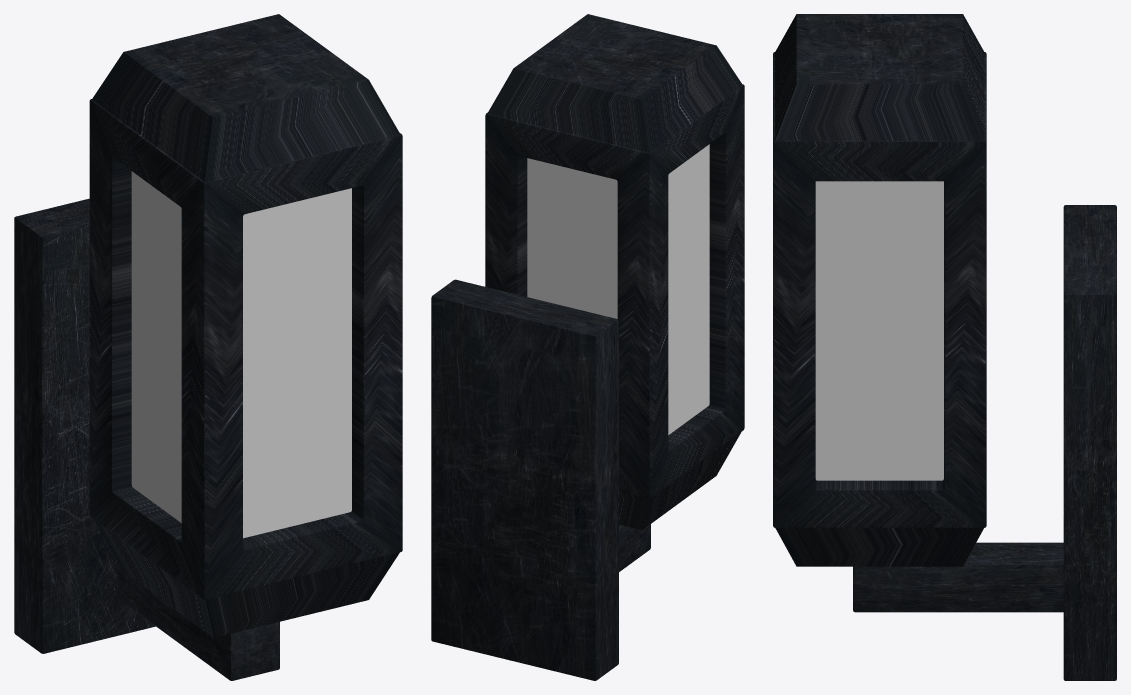
The model's file is lantern.fbx.
3 renders of one model, left to right at view 1: azimuth 30°, elevation 25°; view 2: azimuth 150°, elevation 25°; view 3: azimuth 270°, elevation 25°, orthographic. The views are drawn at different scales.
Visible parts, largest first — view 1: LanternFrame, Light; view 2: LanternFrame, Light; view 3: LanternFrame, Light.
Part boxes in pixels (x1,y1,x2,y2): LanternFrame: (14,14,402,680); Light: (131,171,351,538); LanternFrame: (431,14,744,680); Light: (527,144,709,434); LanternFrame: (773,14,1116,680); Light: (815,181,943,480).
Bounding box in the file's own units: 10.25 × 30.47 × 16.11.
